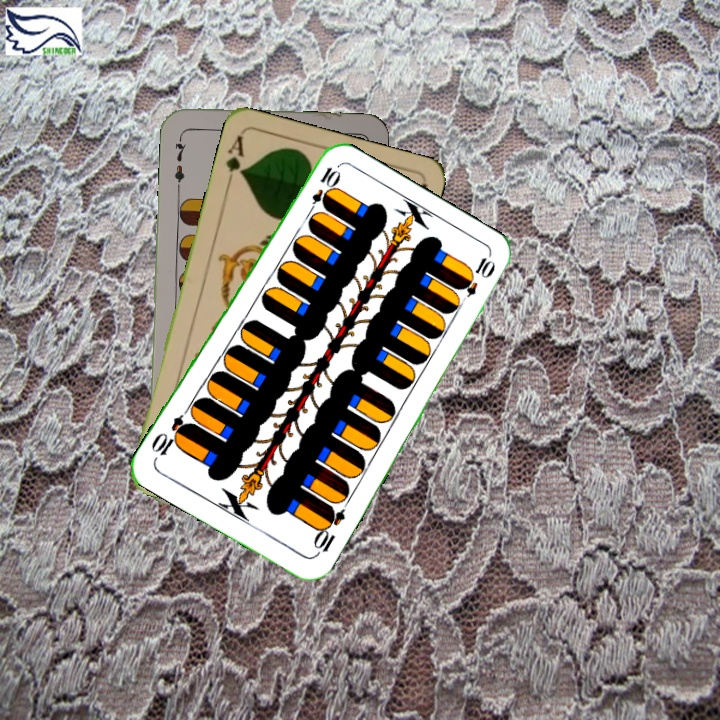E10: (309, 502, 348, 559), (303, 162, 341, 219)
E7: (170, 131, 188, 190)
GA: (222, 131, 247, 190)
